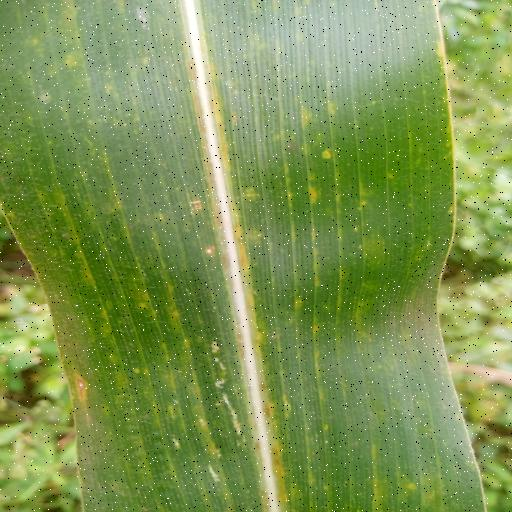Corn_Chlorotic_Leaf_Spot: (2, 0, 494, 512)
